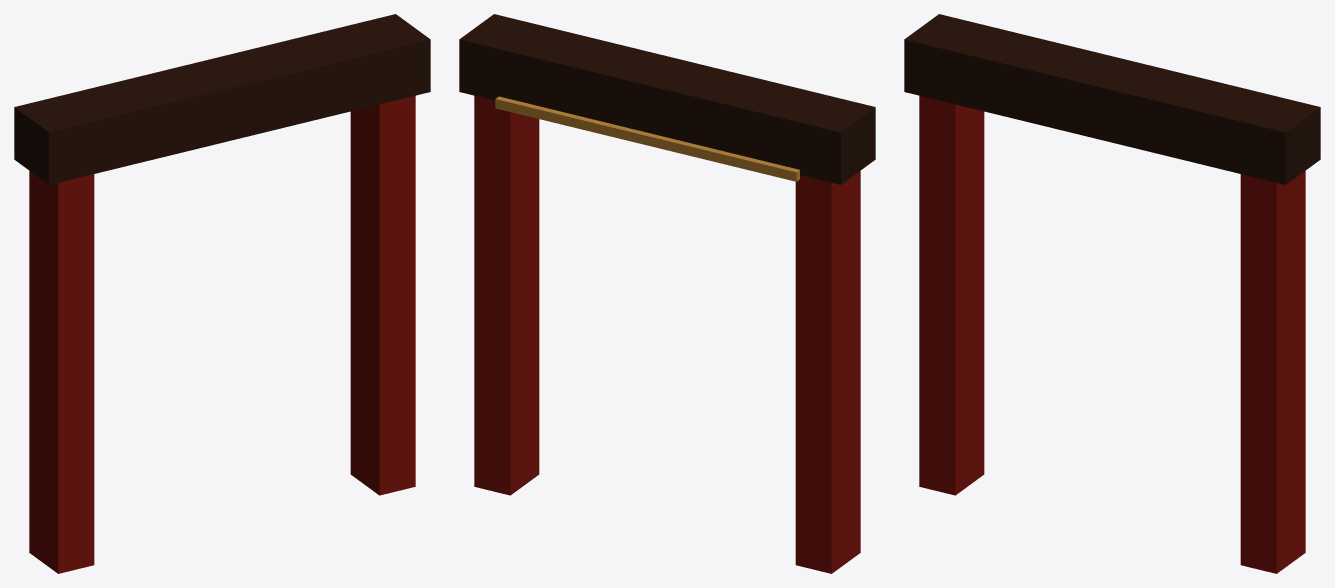
The model's file is gate.glb.
The picture shows the model from 3 angles, left to right: view 1: azimuth 30°, elevation 25°; view 2: azimuth 150°, elevation 25°; view 3: azimuth 330°, elevation 25°; orthographic projection.
Visible parts, largest first — view 1: 朱门出口; view 2: 朱门出口; view 3: 朱门出口.
Part boxes in pixels (x1,y1,x2,y2): 朱门出口: [14, 14, 430, 573]; 朱门出口: [459, 14, 875, 573]; 朱门出口: [904, 14, 1320, 573].
Bounding box in the file's own units: 1.9 × 2.12 × 0.335.
